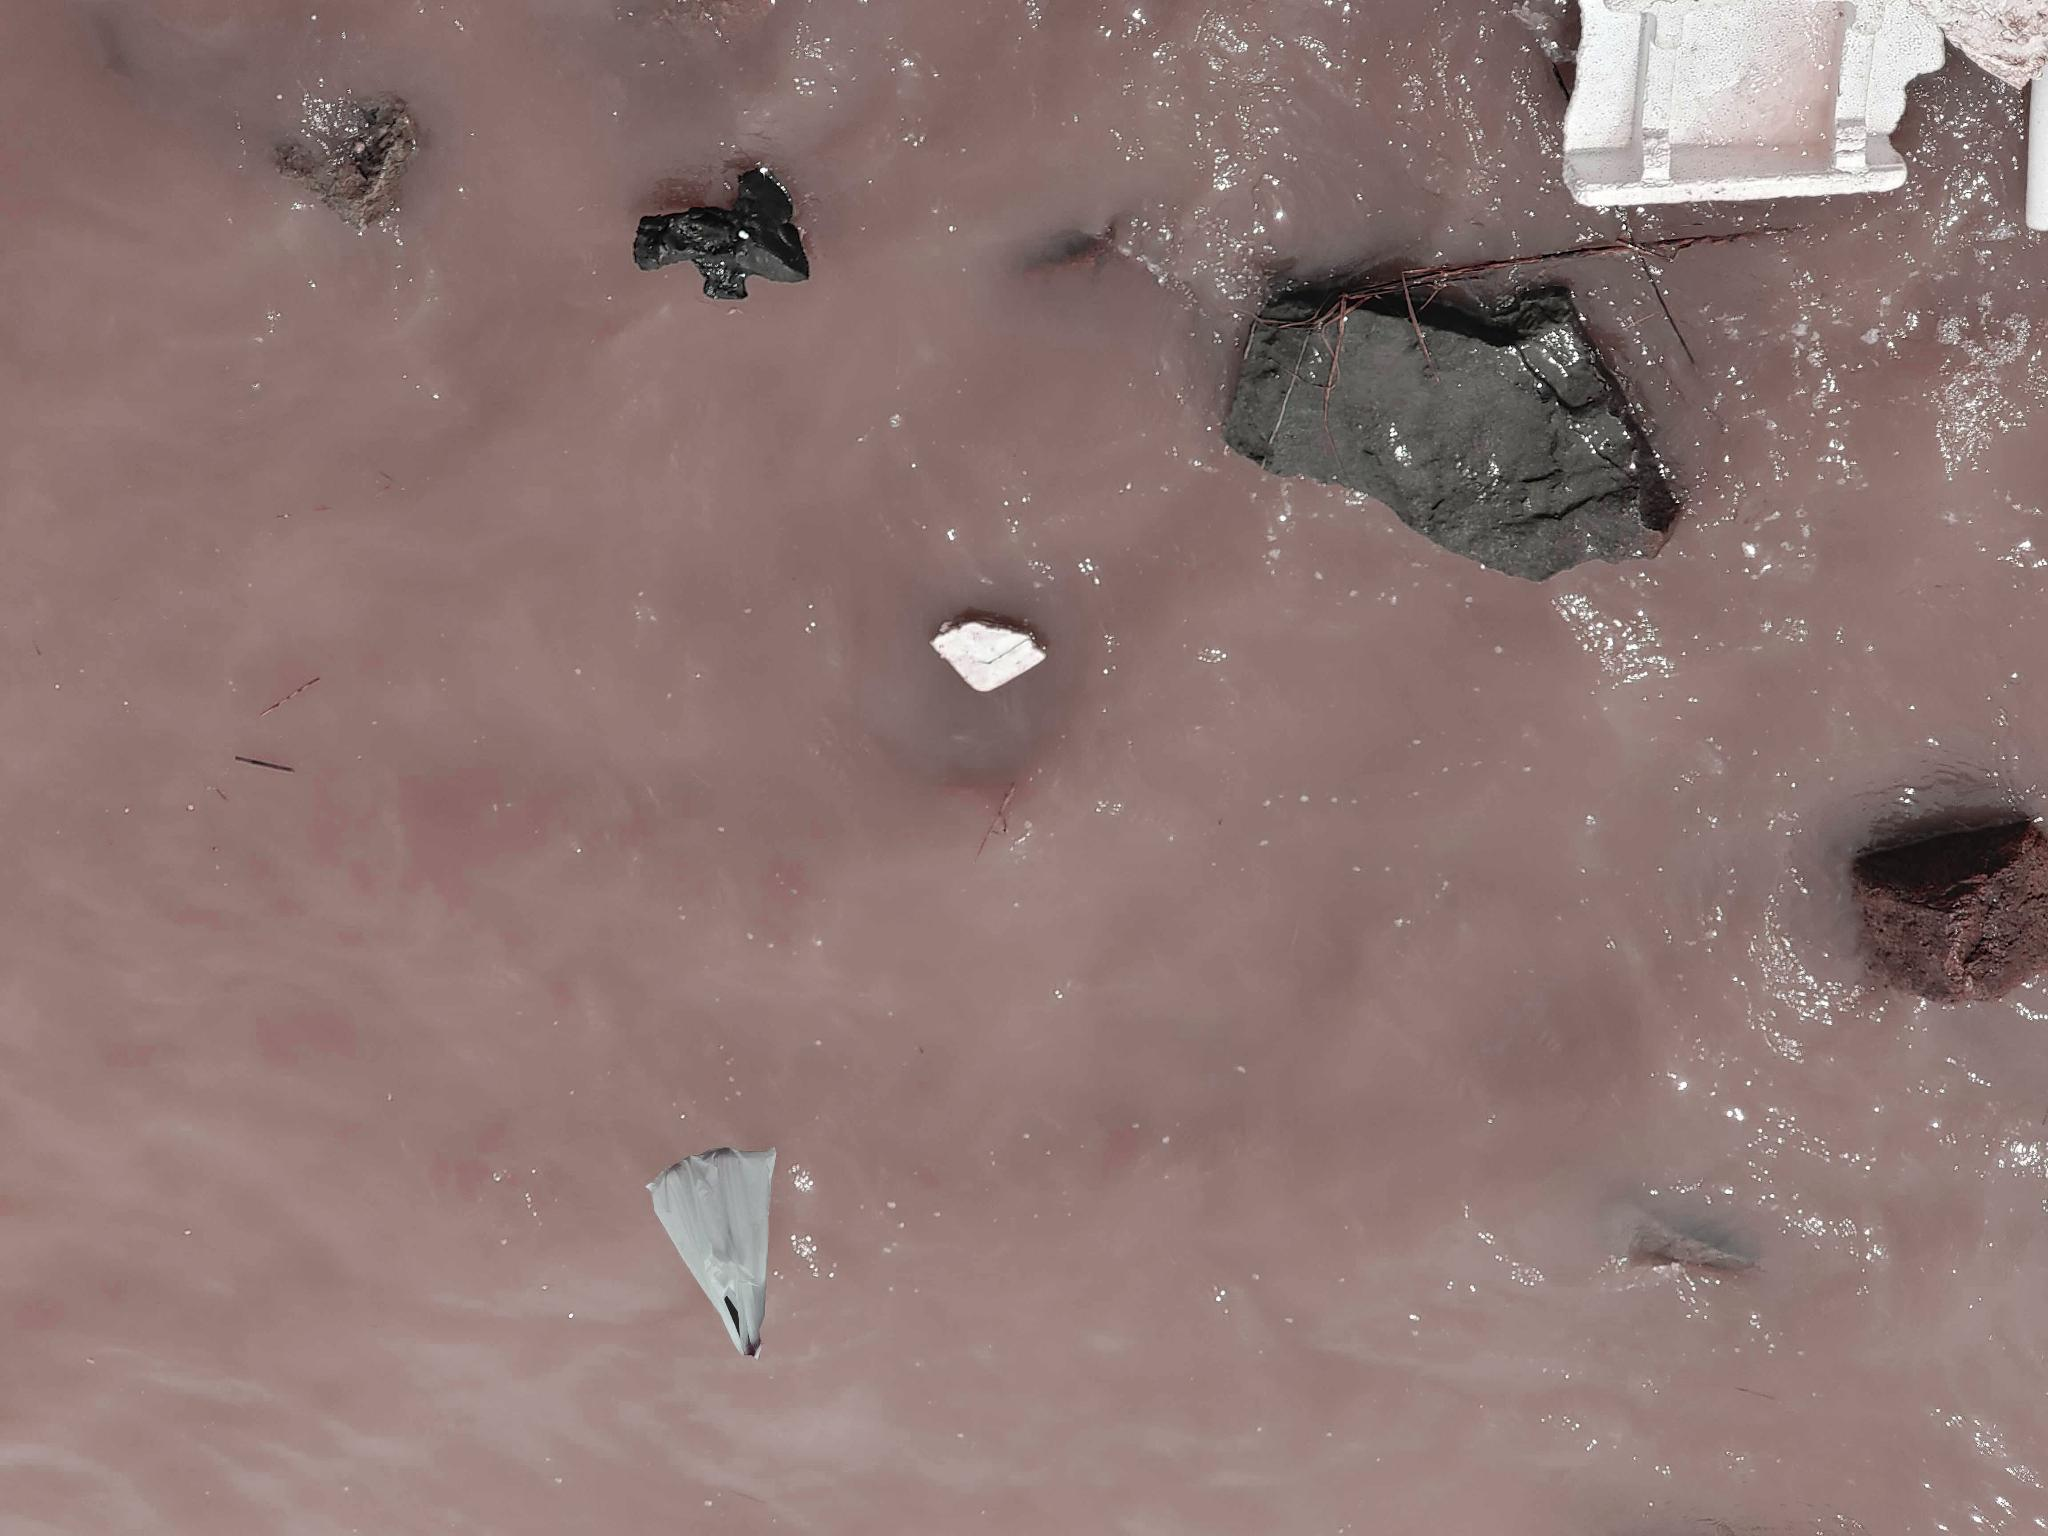Trash: (643, 1149, 779, 1362), (631, 161, 813, 311)
